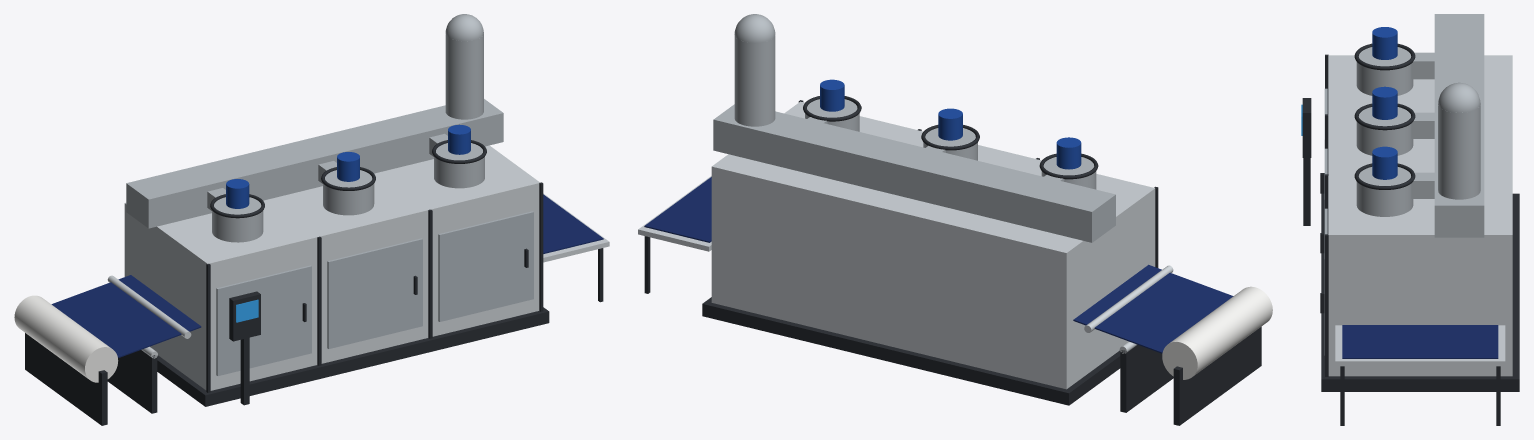
File: kurutma.glb
The picture shows the model from 3 angles, left to right: view 1: azimuth 30°, elevation 25°; view 2: azimuth 150°, elevation 25°; view 3: azimuth 270°, elevation 25°; orthographic projection. The views are drawn at different scales.
Parts seen in each view (by area): view 1: Asset; view 2: Asset; view 3: Asset.
Boxes of the visible parts, x1,y1,x2,y2 form: Asset: (14, 14, 609, 425); Asset: (638, 14, 1272, 425); Asset: (1301, 14, 1519, 425).
Size of the model in its own units: 9.4 by 4.6 by 3.08.
